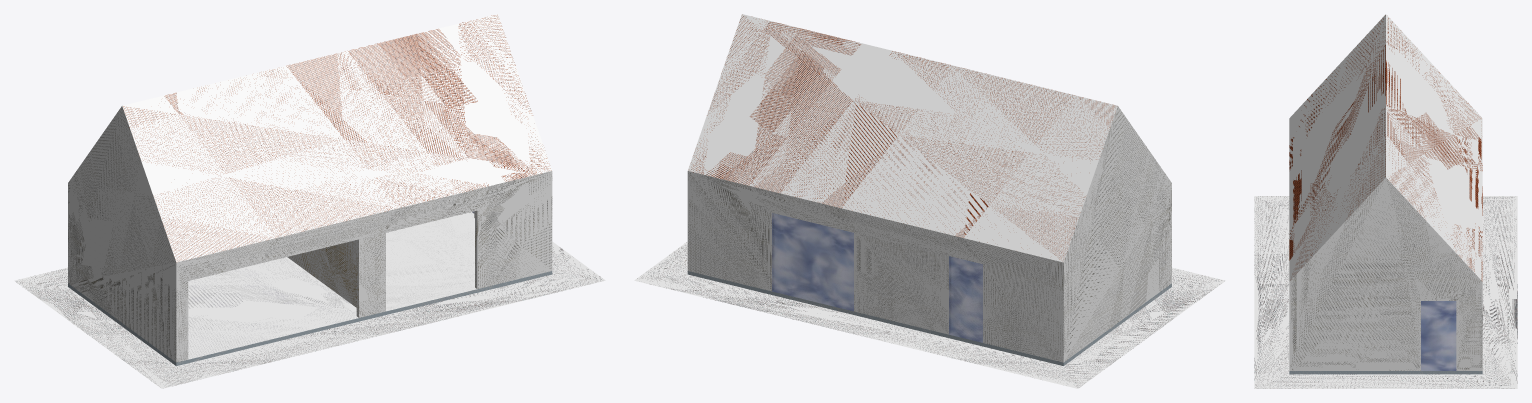
The model's file is Garaget.fbx.
3 renders of one model, left to right at view 1: azimuth 30°, elevation 25°; view 2: azimuth 150°, elevation 25°; view 3: azimuth 270°, elevation 25°, orthographic. The views are drawn at different scales.
Visible parts, largest first — view 1: Component_1_1; view 2: Component_1_1, Model; view 3: Component_1_1, Model.
Part boxes in pixels (x1,y1,x2,y2): Component_1_1: [14, 14, 605, 388]; Component_1_1: [634, 14, 1225, 388]; Model: [772, 213, 982, 342]; Component_1_1: [1254, 14, 1517, 388]; Model: [1421, 301, 1456, 370].
Bounding box in the file's own units: 1300 × 618 × 750.
